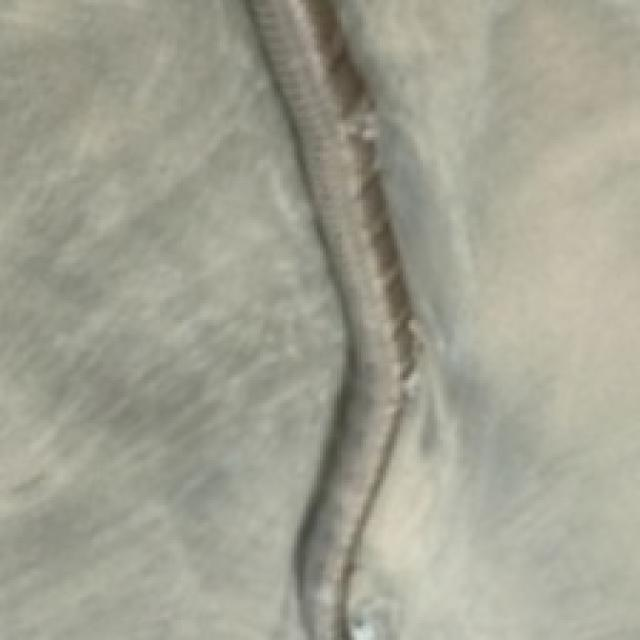king cobra: (249, 0, 411, 637)
